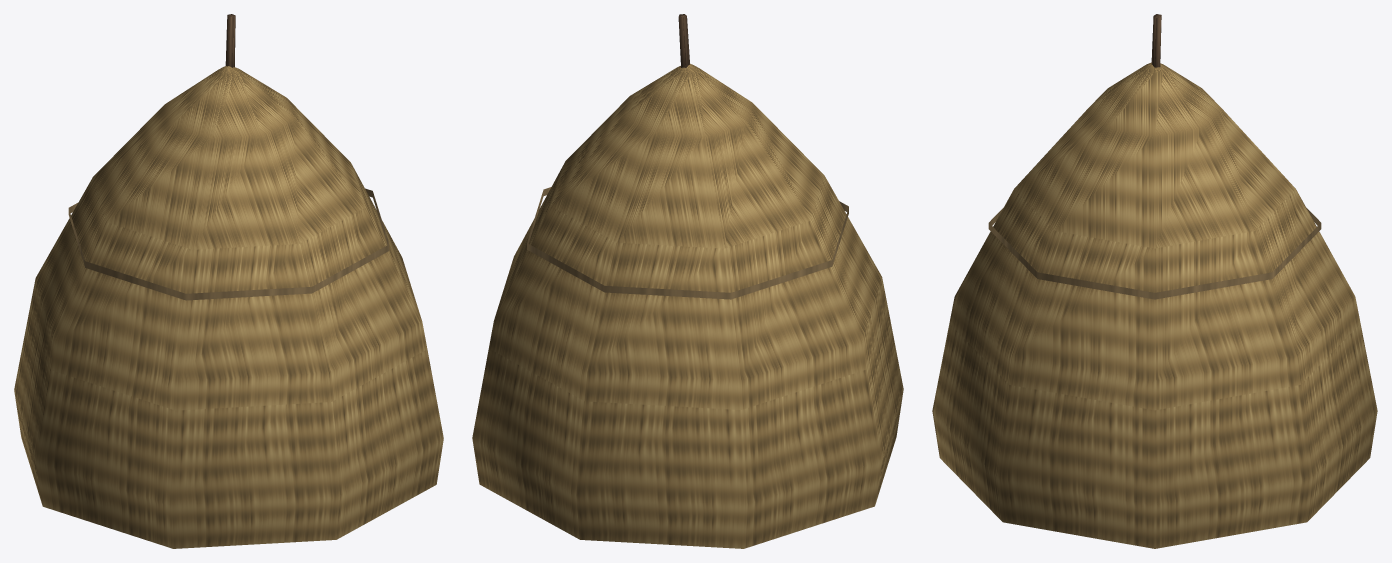
File: Haystack_1_LOD1.gltf
The picture shows the model from 3 angles, left to right: view 1: azimuth 30°, elevation 25°; view 2: azimuth 150°, elevation 25°; view 3: azimuth 270°, elevation 25°; orthographic projection.
Visible parts, largest first — view 1: Haystack_1_LOD1; view 2: Haystack_1_LOD1; view 3: Haystack_1_LOD1.
Boxes of the visible parts, box(x1,y1,x2,y2) form: Haystack_1_LOD1: box(14, 14, 443, 548); Haystack_1_LOD1: box(472, 14, 903, 548); Haystack_1_LOD1: box(932, 14, 1377, 548).
Size of the model in its own units: 3 by 3.3 by 3.
3 materials, 3 textured.
